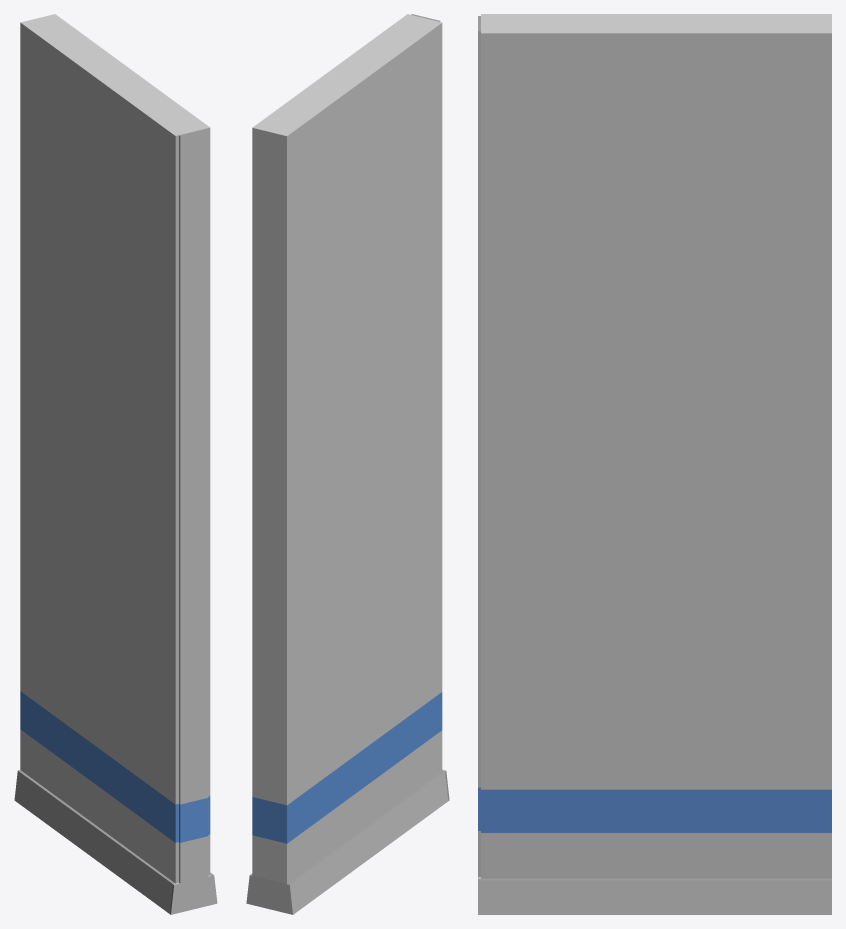
The model's file is Murpetit.fbx.
3 renders of one model, left to right at view 1: azimuth 30°, elevation 25°; view 2: azimuth 150°, elevation 25°; view 3: azimuth 270°, elevation 25°, orthographic. The views are drawn at different scales.
Parts seen in each view (by area): view 1: Cube.012; view 2: Cube.012; view 3: Cube.012.
Boxes of the visible parts, x1,y1,x2,y2 form: Cube.012: [14, 14, 217, 914]; Cube.012: [246, 14, 449, 914]; Cube.012: [478, 14, 831, 914].
Size of the model in its own units: 69.07 by 1100 by 402.
